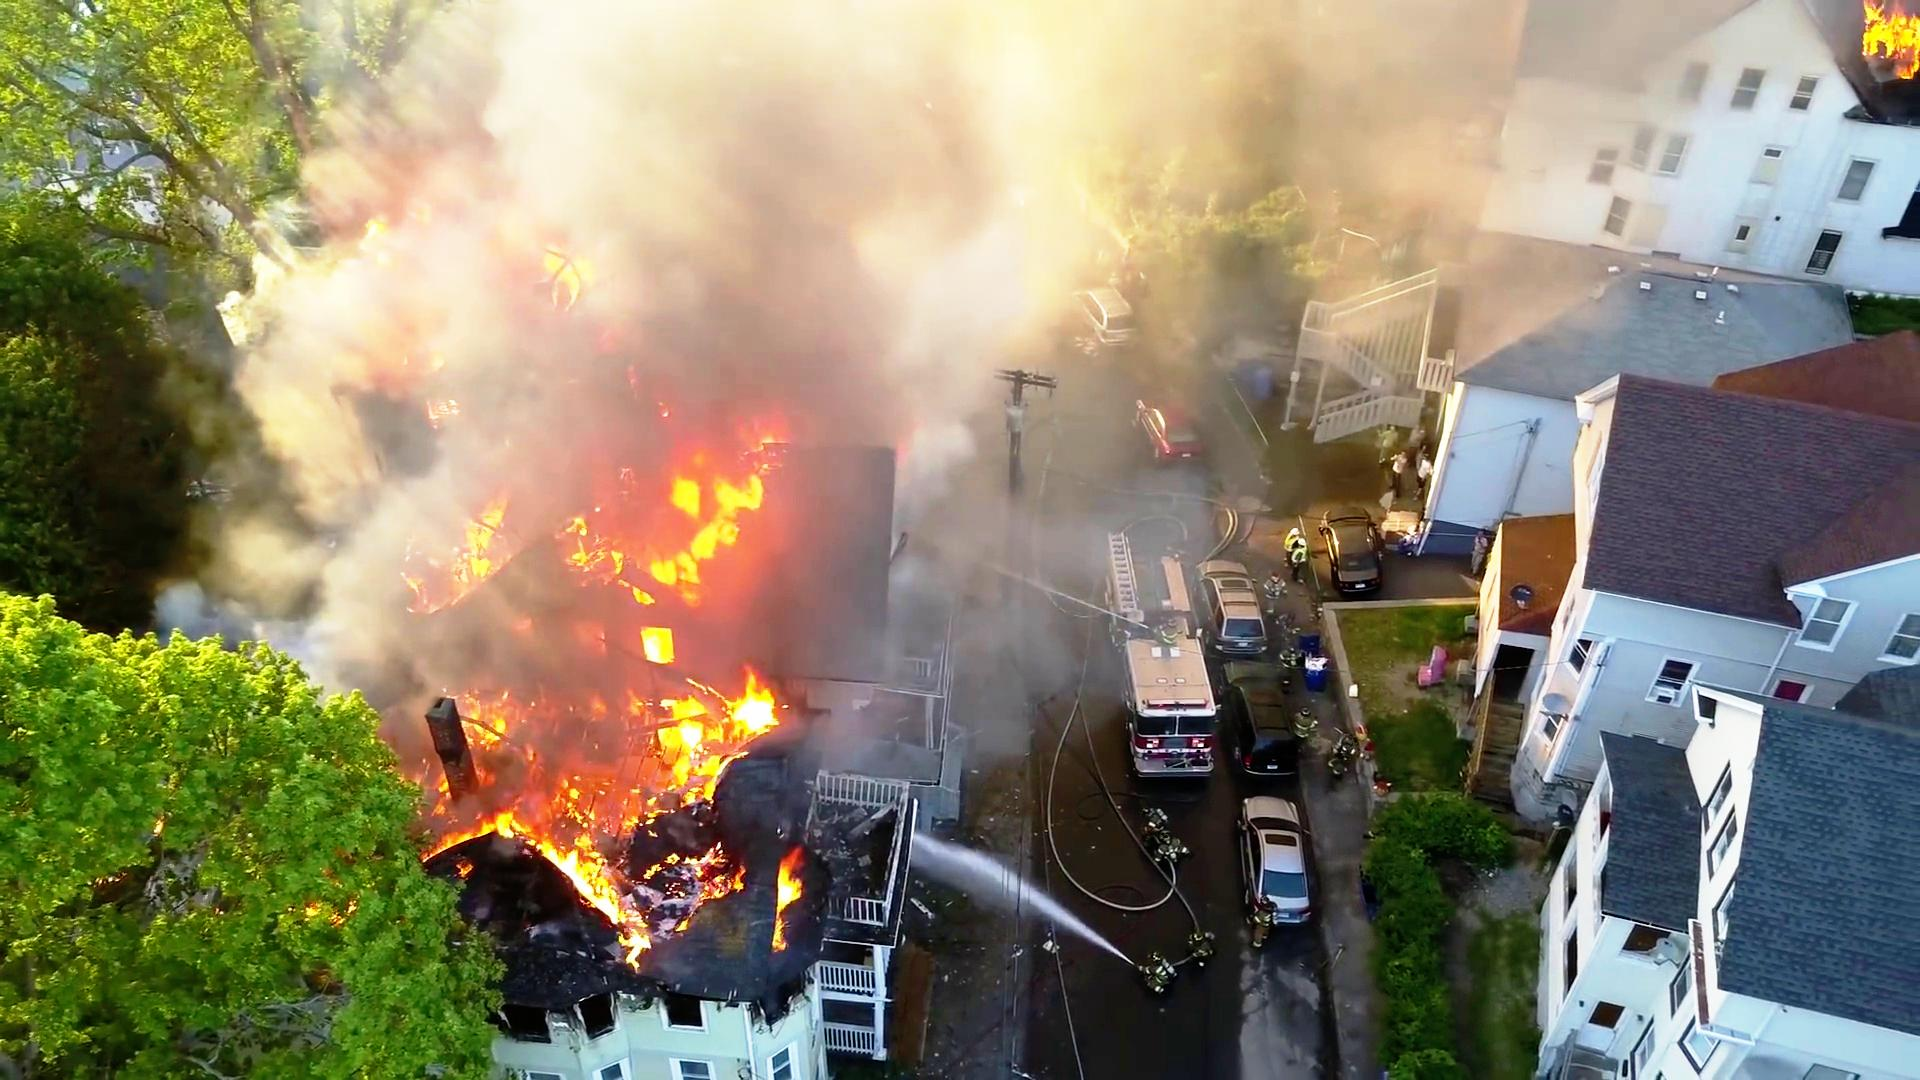fire: (541, 670, 814, 828), (633, 430, 770, 611)
smoke: (615, 28, 945, 398)
